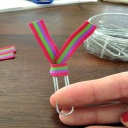Metal: (48, 58, 79, 117)
